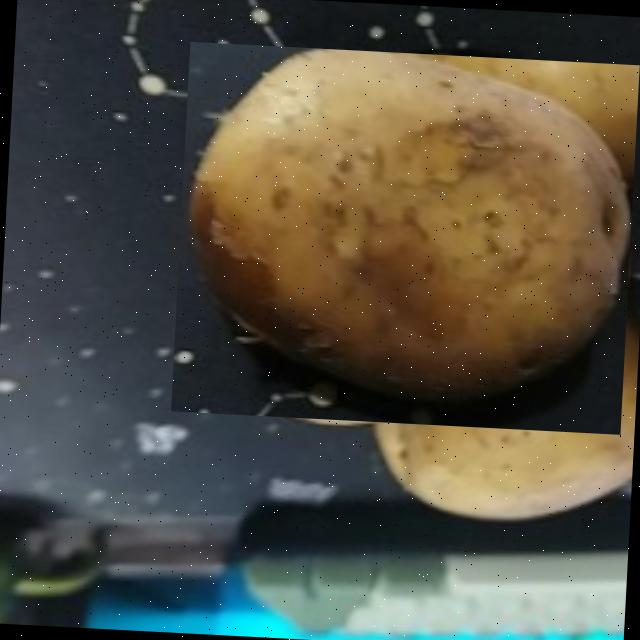Damaged potato: (170, 41, 639, 434)
Potato: (362, 296, 640, 532)
